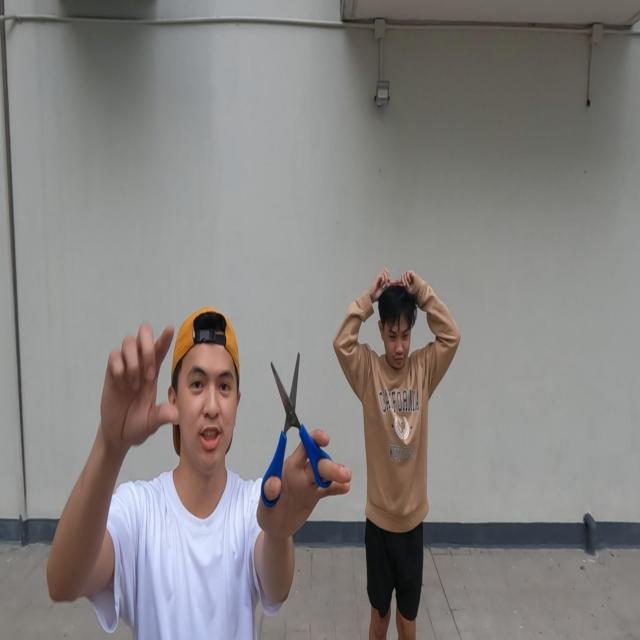scissor: (260, 350, 334, 510)
